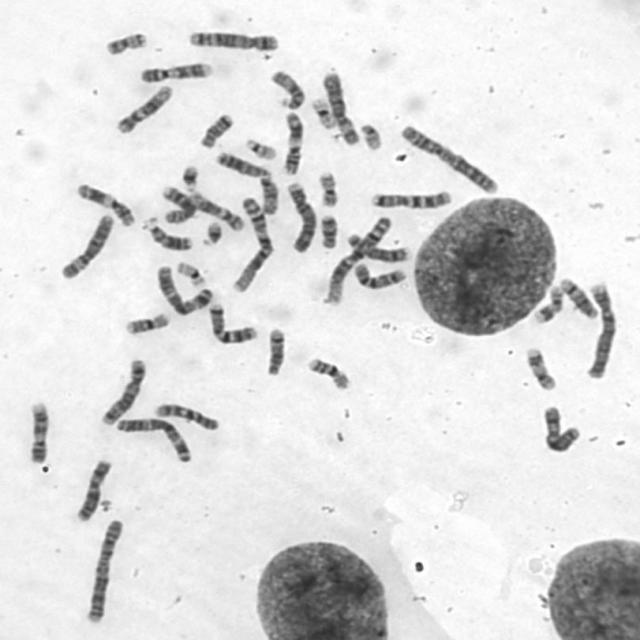A1: (322, 214, 393, 308), (230, 195, 274, 294)
A2: (400, 126, 501, 197), (79, 517, 126, 626)
A3: (115, 417, 194, 466), (156, 262, 217, 317)
B4: (586, 280, 617, 380), (284, 181, 319, 255)
B5: (98, 358, 147, 426), (185, 30, 282, 53)
C10: (153, 402, 221, 433), (353, 261, 409, 291)
C11: (76, 182, 136, 227), (280, 111, 306, 178)
C12: (114, 84, 174, 138), (186, 190, 247, 233)
C6: (59, 213, 113, 281), (322, 70, 360, 146)
C7: (209, 303, 259, 348), (370, 188, 453, 212)
C8: (346, 233, 412, 263), (160, 185, 198, 224)
C9: (136, 59, 214, 85), (27, 399, 49, 465)
D13: (147, 215, 195, 252), (214, 152, 275, 178)
D14: (558, 275, 600, 319), (262, 326, 288, 378)
D15: (270, 69, 308, 110), (258, 172, 282, 217)
E16: (301, 356, 356, 394), (121, 311, 172, 336)
E17: (526, 346, 560, 392), (530, 284, 563, 326)
E18: (199, 112, 234, 150), (320, 213, 338, 250)
F19: (311, 96, 338, 130), (175, 260, 207, 288)
F20: (103, 30, 150, 56), (316, 170, 341, 208)
G21: (200, 221, 222, 246), (181, 165, 198, 192)
G22: (241, 136, 280, 162), (360, 123, 384, 152)
X: (75, 459, 112, 522), (539, 404, 583, 454)
